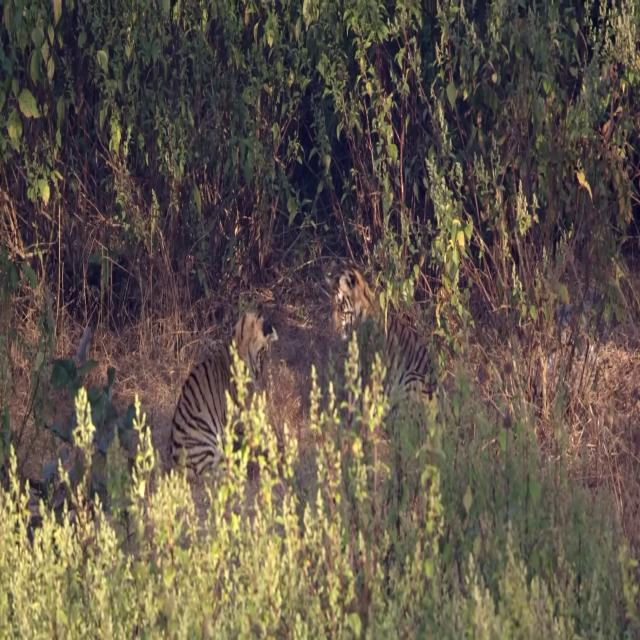tiger: (331, 266, 452, 429), (169, 312, 278, 485)
